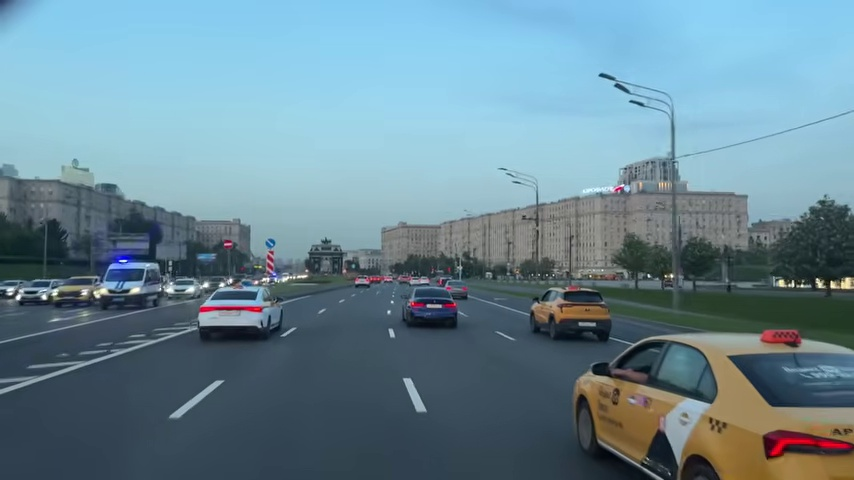apagada: (596, 70, 624, 96), (495, 164, 520, 186), (596, 69, 617, 89)
